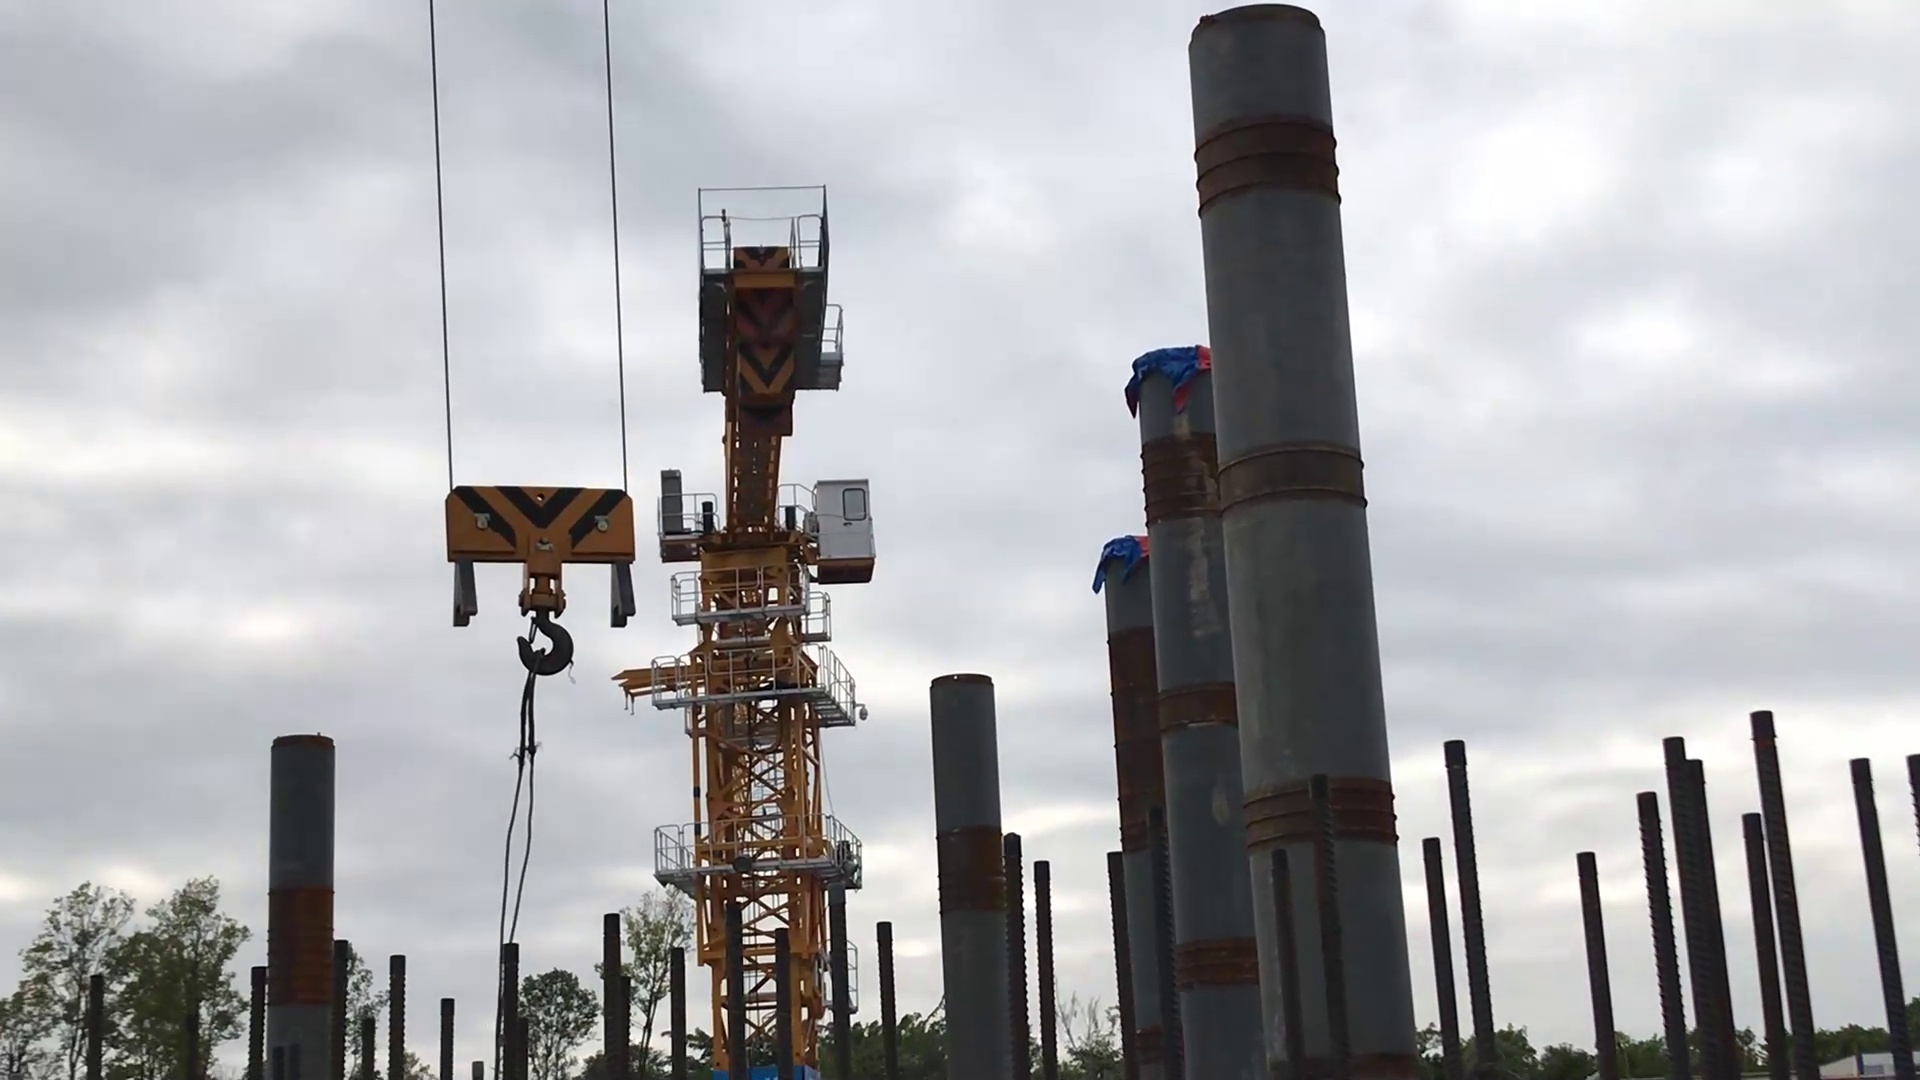hook: (429, 477, 647, 705)
